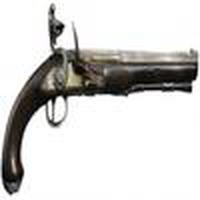gun: (1, 46, 199, 199)
